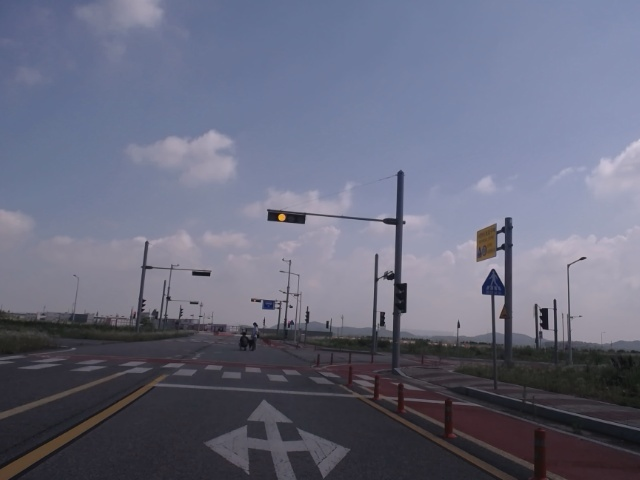orange_4: (267, 210, 304, 224)
